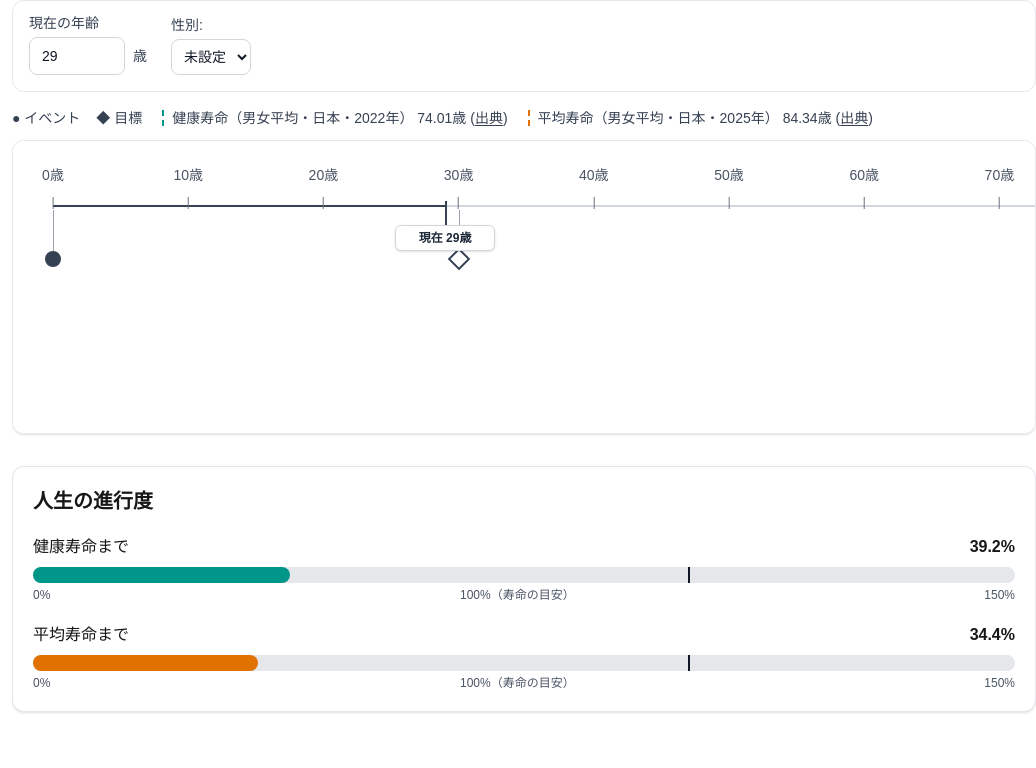
Timeline › 別の項目を選ぶと詳細を切り替え、目標の状態を表示する
This screenshot has width=1036, height=768.
Step 1. Click the button named "誕生" → click(53, 259), box [37, 243, 69, 275]
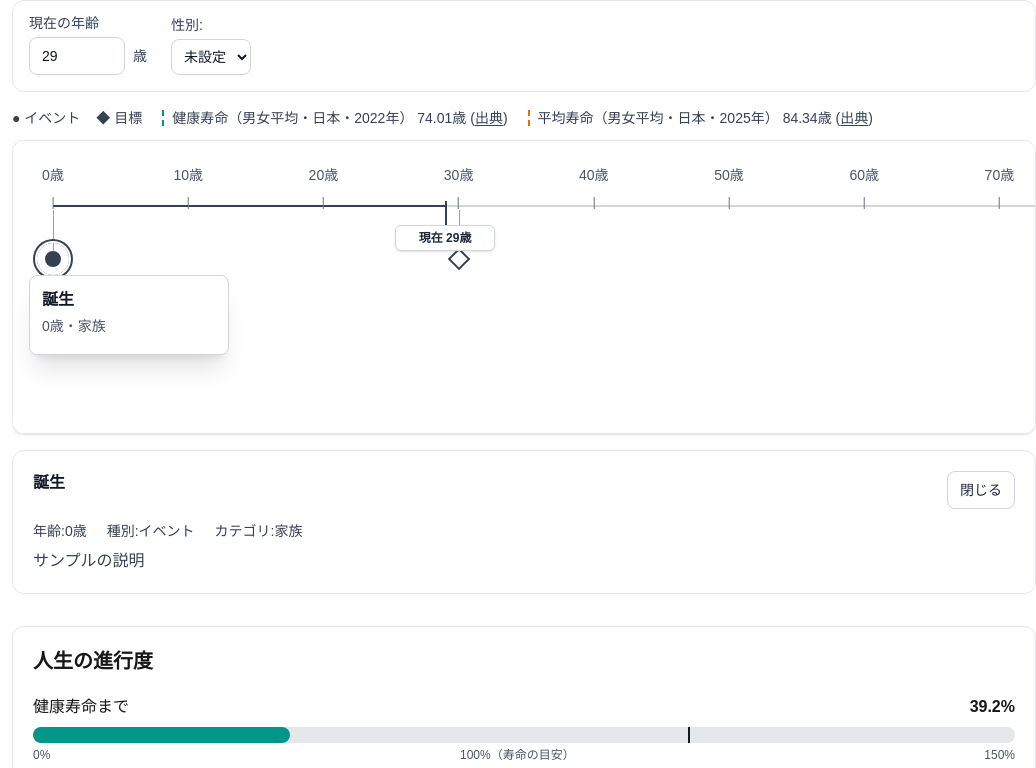
Step 2. Click the button named "資格取得" → click(459, 259), box [443, 243, 475, 275]
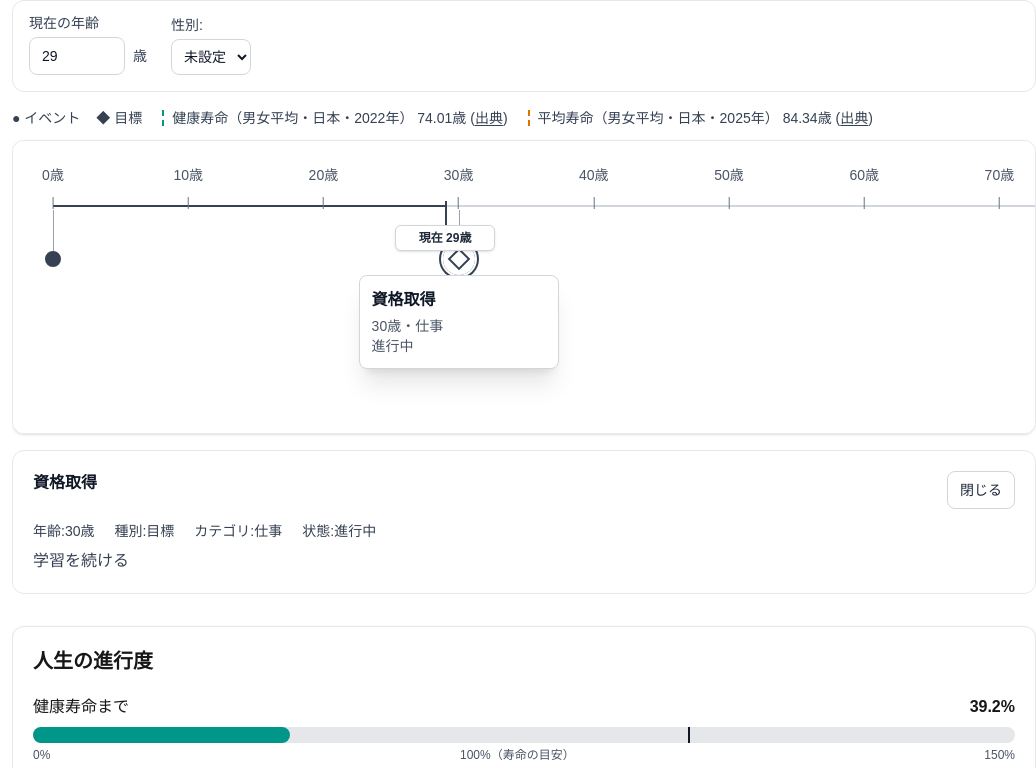
Result: the text "30歳" is shown at [65, 523, 94, 539]
Result: the text "目標" is shown at [146, 523, 174, 539]
Result: the text "仕事" is shown at [254, 523, 282, 539]
